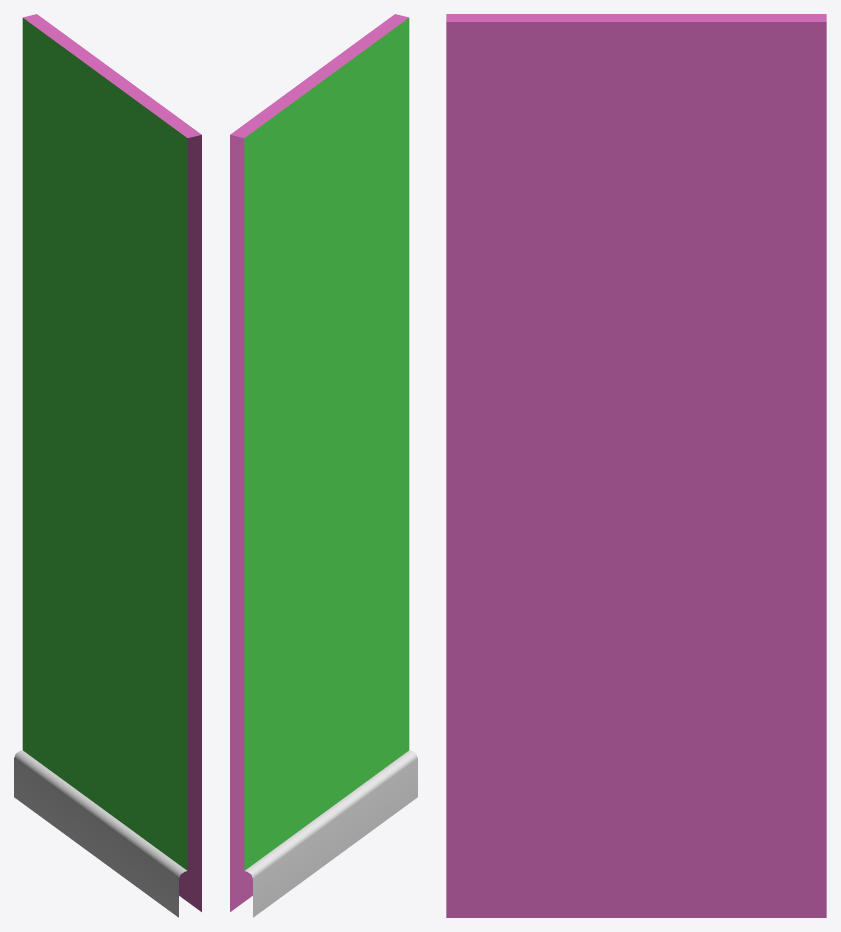
Rendered from wall_01.fbx.
The picture shows the model from 3 angles, left to right: view 1: azimuth 30°, elevation 25°; view 2: azimuth 150°, elevation 25°; view 3: azimuth 270°, elevation 25°; orthographic projection. The views are drawn at different scales.
Parts seen in each view (by area): view 1: wall_01; view 2: wall_01; view 3: wall_01.
Boxes of the visible parts, x1,y1,x2,y2 form: wall_01: (14,14,201,917); wall_01: (230,14,417,917); wall_01: (446,14,826,917).
Size of the model in its own units: 0.08 by 2.6 by 1.
